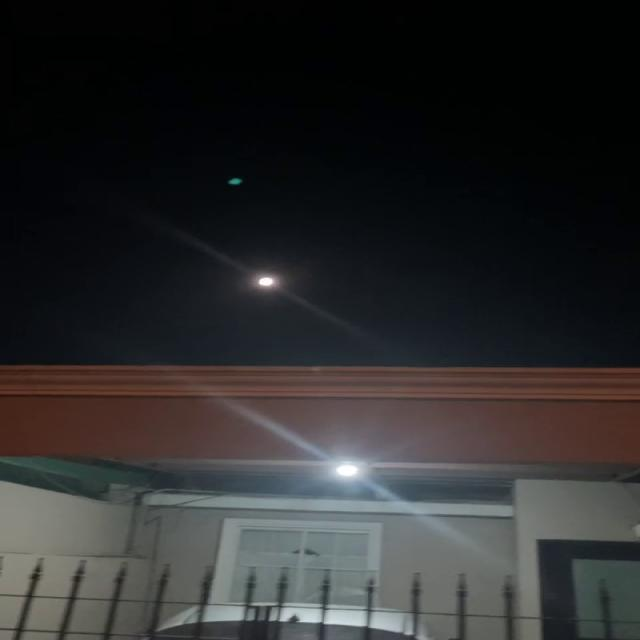moon: (248, 263, 285, 294)
